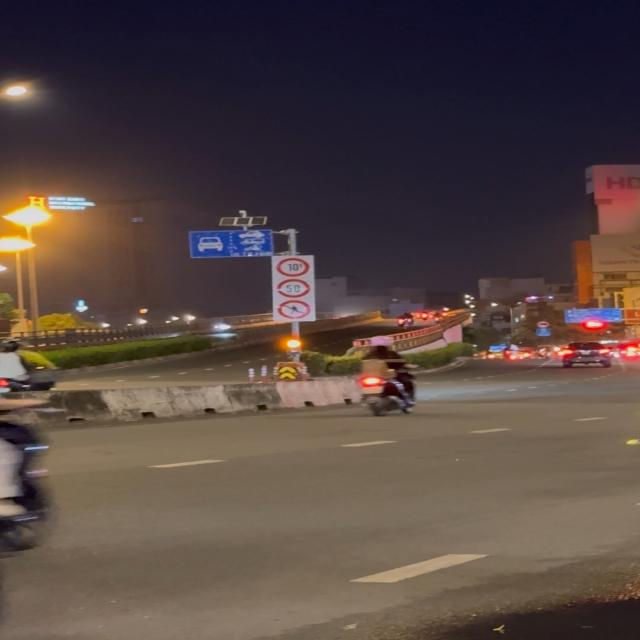Bien bao cam nguoi di bo: (276, 300, 313, 319)
Bien bao toc do toi da cho phep: (276, 278, 310, 299)
